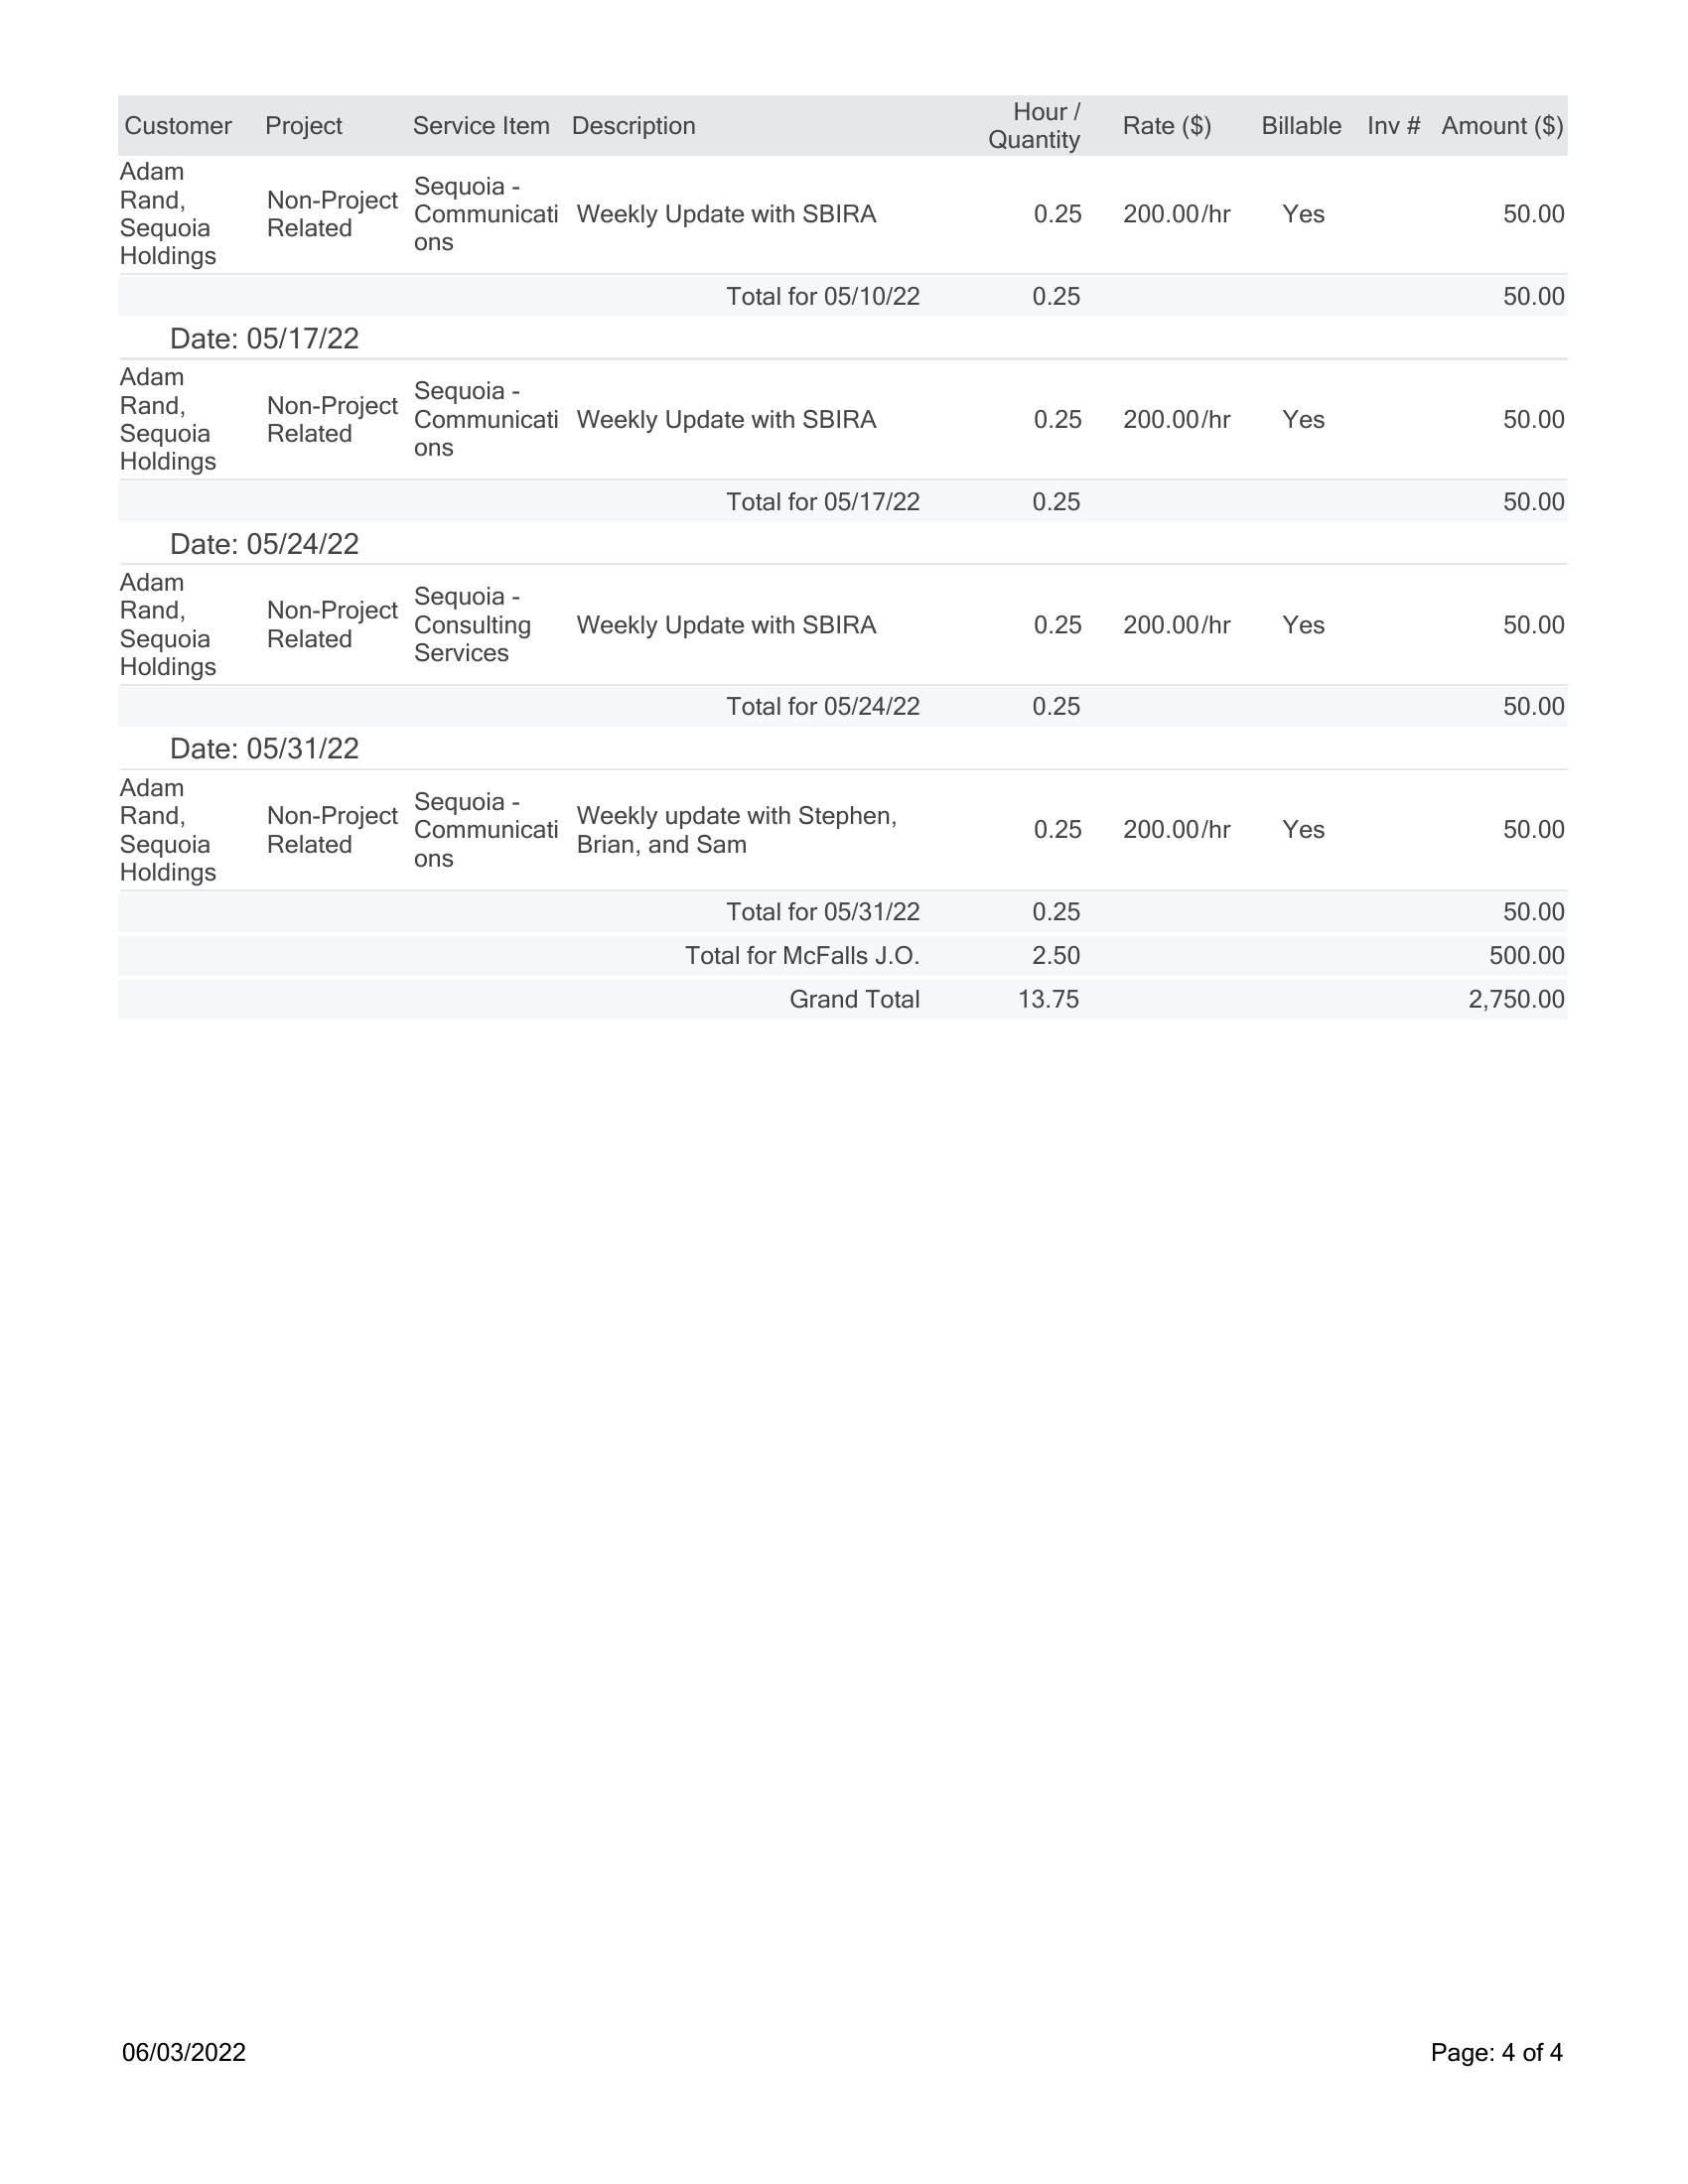table: (115, 771, 1610, 1044), (113, 94, 1587, 317), (112, 558, 1598, 725), (113, 358, 1594, 519)
